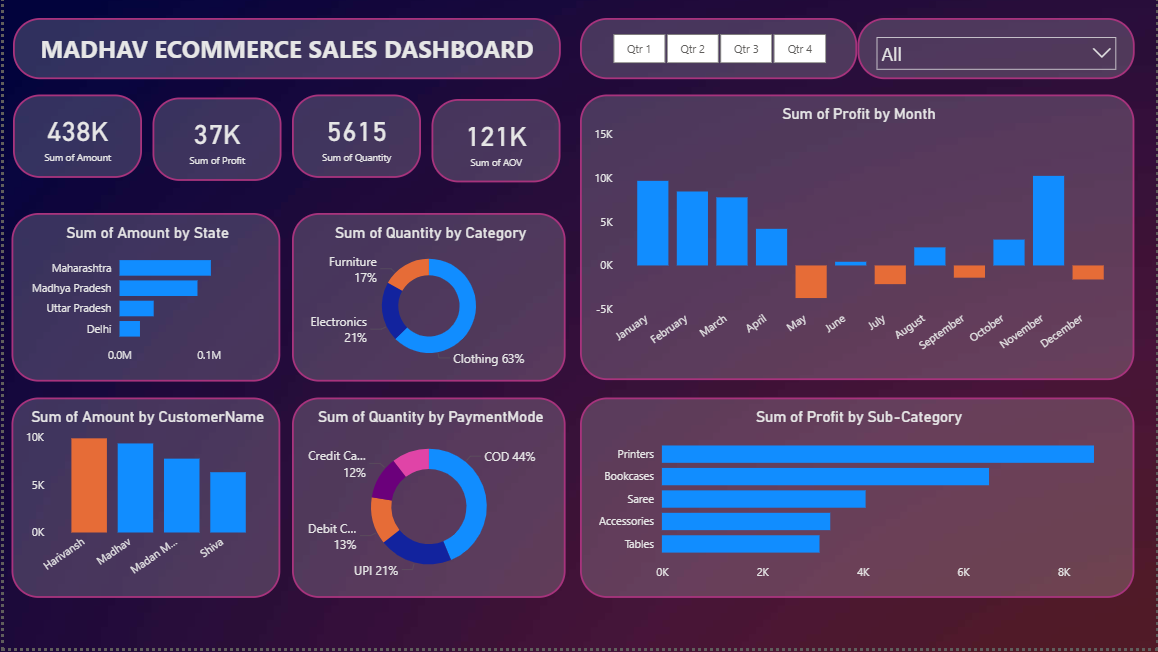

This screenshot's page, from the dashboard's own definition file:
{"tool":"powerbi","page":{"name":"Page 1","canvas":[1280,720],"ordinal":0},"visuals":[{"type":"textbox","box":[9.4,20.8,608.5,68],"z":0},{"type":"columnChart","fields":{"Category":["Orders.Order Date.Variation.Date Hierarchy.Month"],"Y":["Sum(Details.Profit)"]},"box":[640.6,105.8,616.1,317.5],"z":1000},{"type":"barChart","fields":{"Category":["Details.Sub-Category"],"Y":["Sum(Details.Profit)"]},"box":[640.6,442.2,616.1,223],"z":2000},{"type":"donutChart","fields":{"Category":["Details.Category"],"Y":["Sum(Details.Quantity)"]},"box":[319.4,236.2,304.3,187.1],"z":3000},{"type":"donutChart","fields":{"Y":["Sum(Details.Quantity)"],"Category":["Details.PaymentMode"]},"box":[319.4,442.2,304.3,223],"z":4000},{"type":"card","fields":{"Values":["Sum(Details.Amount)"]},"box":[9.4,105.8,143.6,92.6],"z":5000},{"type":"card","fields":{"Values":["Sum(Details.Profit)"]},"box":[164.4,107.7,143.6,92.6],"z":6000},{"type":"card","fields":{"Values":["Sum(Details.Quantity)"]},"box":[319.4,105.8,143.6,92.6],"z":7000},{"type":"card","fields":{"Values":["Sum(Details.AOV)"]},"box":[474.3,109.6,143.6,92.6],"z":8000},{"type":"barChart","fields":{"Category":["Orders.State"],"Y":["Sum(Details.Amount)"]},"box":[7.6,236.2,298.6,187.1],"z":9000},{"type":"columnChart","fields":{"Category":["Orders.CustomerName"],"Y":["Sum(Details.Amount)"]},"box":[7.6,442.2,298.6,223],"z":10000},{"type":"slicer","fields":{"Values":["Orders.Order Date.Variation.Date Hierarchy.Quarter"]},"box":[640.6,20.8,308,68],"z":11000},{"type":"slicer","fields":{"Values":["Orders.State"]},"box":[948.7,20.8,308,68],"z":12000}]}

Visuals, with their boxes in screenshot pixels (x1, y1, x2, y2), scaled from the page's 1280x720 canvas onto the 1158x652 screenshot:
textbox: x1=9 y1=19 x2=559 y2=80
columnChart - Orders.Order Date.Variation.Date Hierarchy.Month x Sum(Details.Profit): x1=580 y1=96 x2=1137 y2=383
barChart - Details.Sub-Category x Sum(Details.Profit): x1=580 y1=400 x2=1137 y2=602
donutChart - Details.Category x Sum(Details.Quantity): x1=289 y1=214 x2=564 y2=383
donutChart - Sum(Details.Quantity) x Details.PaymentMode: x1=289 y1=400 x2=564 y2=602
card - Sum(Details.Amount): x1=9 y1=96 x2=138 y2=180
card - Sum(Details.Profit): x1=149 y1=98 x2=279 y2=181
card - Sum(Details.Quantity): x1=289 y1=96 x2=419 y2=180
card - Sum(Details.AOV): x1=429 y1=99 x2=559 y2=183
barChart - Orders.State x Sum(Details.Amount): x1=7 y1=214 x2=277 y2=383
columnChart - Orders.CustomerName x Sum(Details.Amount): x1=7 y1=400 x2=277 y2=602
slicer - Orders.Order Date.Variation.Date Hierarchy.Quarter: x1=580 y1=19 x2=858 y2=80
slicer - Orders.State: x1=858 y1=19 x2=1137 y2=80
